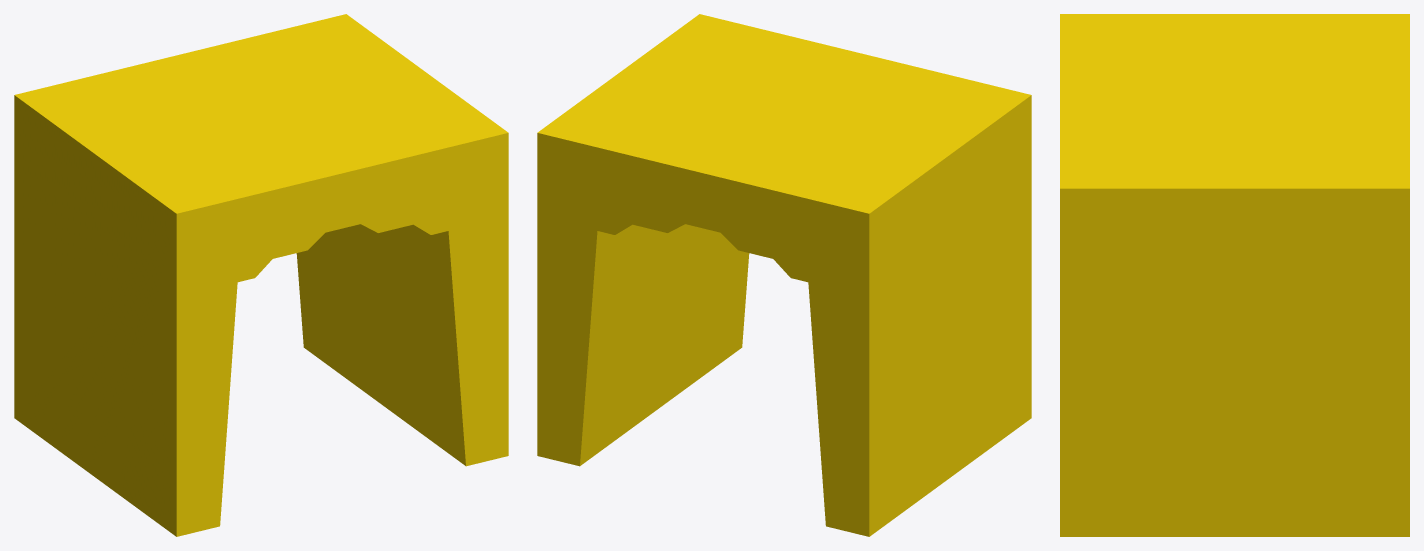
The model's file is crocArch.glb.
3 views of the same model, side by side, from view 1: azimuth 30°, elevation 25°; view 2: azimuth 150°, elevation 25°; view 3: azimuth 270°, elevation 25° (orthographic). The views are drawn at different scales.
Parts seen in each view (by area): view 1: Cube; view 2: Cube; view 3: Cube.
Part boxes in pixels (left/top/right/bottom): Cube: left=14, top=14, right=508, bottom=536; Cube: left=537, top=14, right=1031, bottom=536; Cube: left=1060, top=14, right=1409, bottom=536.
Bounding box in the file's own units: 11.95 × 11.11 × 10.12.
